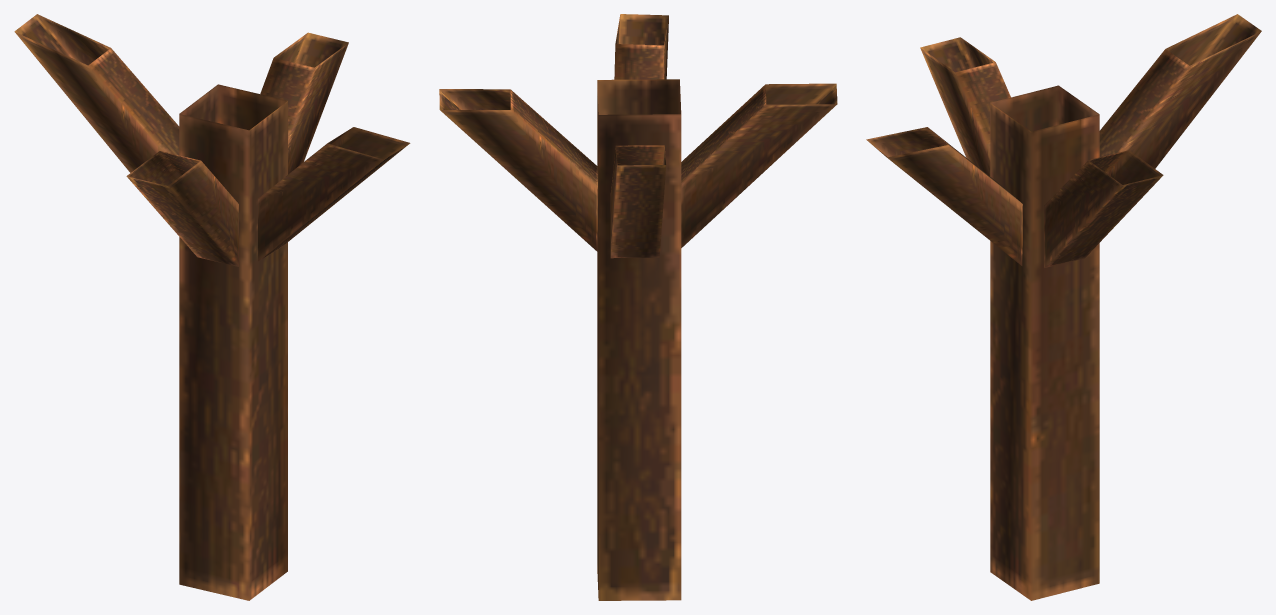
Rendered from SWORDLIGHT20_JAILPLATSUPPORT38.fbx.
The picture shows the model from 3 angles, left to right: view 1: azimuth 30°, elevation 25°; view 2: azimuth 150°, elevation 25°; view 3: azimuth 270°, elevation 25°; orthographic projection. The views are drawn at different scales.
Visible parts, largest first — view 1: SWORDLIGHT20_JAILPLATSUPPORT38; view 2: SWORDLIGHT20_JAILPLATSUPPORT38; view 3: SWORDLIGHT20_JAILPLATSUPPORT38.
Part boxes in pixels (box(x1,y1,x2,y2)): SWORDLIGHT20_JAILPLATSUPPORT38: box(14, 14, 410, 600); SWORDLIGHT20_JAILPLATSUPPORT38: box(439, 14, 837, 600); SWORDLIGHT20_JAILPLATSUPPORT38: box(866, 14, 1261, 600).
Bounding box in the file's own units: 17531 × 27863 × 19835.
1 material, 1 textured.
